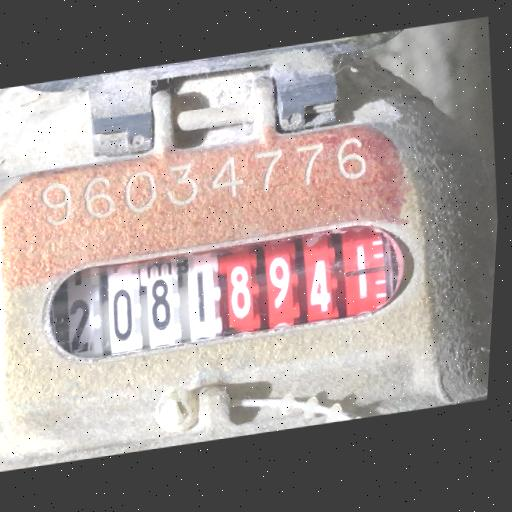0: (93, 258, 151, 356)
1: (331, 220, 393, 319), (174, 246, 230, 344)
2: (50, 265, 109, 364)
4: (293, 227, 349, 326)
8: (211, 240, 270, 339), (133, 251, 191, 351)
9: (252, 235, 310, 332)
border_water_meter_number: (32, 210, 428, 374)
